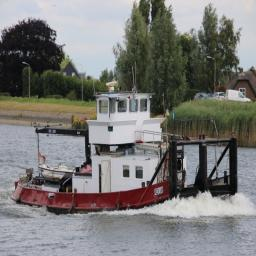tugboat: (11, 80, 241, 219)
